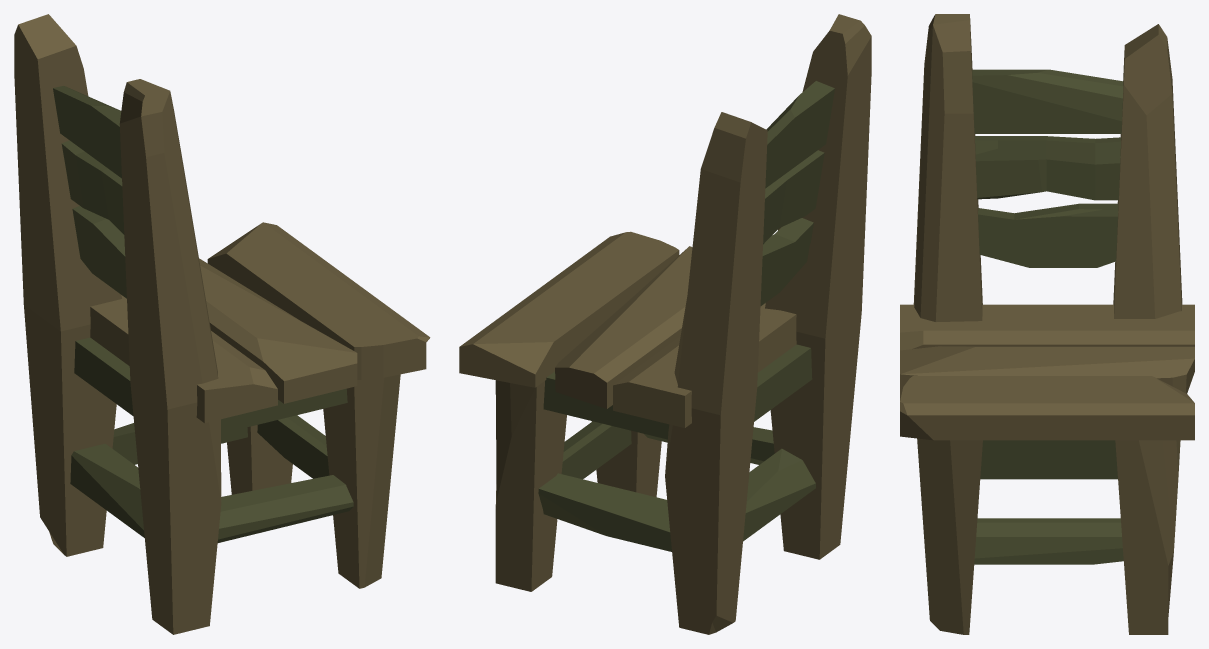
File: Chair_2_Green.fbx
The picture shows the model from 3 angles, left to right: view 1: azimuth 30°, elevation 25°; view 2: azimuth 150°, elevation 25°; view 3: azimuth 270°, elevation 25°; orthographic projection. The views are drawn at different scales.
Parts seen in each view (by area): view 1: Cube.211, Cube.210, Cube.239, Cube.213, Cube.238, Cube.237, Cube.217, Cube.216, Cube.235, Cube.234, Cube.236, Cube.212 (+4 smaller); view 2: Cube.210, Cube.211, Cube.239, Cube.212, Cube.238, Cube.218, Cube.237, Cube.235, Cube.216, Cube.234, Cube.236, Cube.213 (+4 smaller); view 3: Cube.239, Cube.211, Cube.210, Cube.237, Cube.212, Cube.213, Cube.235, Cube.238, Cube.234, Cube.236, Cube.215, Cube.216 (+1 smaller).
Part boxes in pixels (x1=…): Cube.211: x1=119, y1=79, x2=221, y2=634; Cube.210: x1=14, y1=14, x2=121, y2=556; Cube.239: x1=207, y1=222, x2=430, y2=379; Cube.213: x1=323, y1=374, x2=400, y2=588; Cube.238: x1=199, y1=258, x2=357, y2=403; Cube.237: x1=90, y1=295, x2=277, y2=423; Cube.217: x1=217, y1=475, x2=353, y2=542; Cube.216: x1=70, y1=443, x2=144, y2=537; Cube.235: x1=53, y1=86, x2=121, y2=178; Cube.234: x1=61, y1=140, x2=124, y2=234; Cube.236: x1=72, y1=206, x2=126, y2=298; Cube.212: x1=227, y1=425, x2=292, y2=494; Cube.210: x1=665, y1=112, x2=767, y2=634; Cube.211: x1=765, y1=14, x2=871, y2=559; Cube.239: x1=459, y1=231, x2=679, y2=387; Cube.212: x1=495, y1=380, x2=566, y2=591; Cube.238: x1=555, y1=246, x2=692, y2=408; Cube.218: x1=538, y1=473, x2=671, y2=551; Cube.237: x1=613, y1=303, x2=796, y2=427; Cube.235: x1=765, y1=81, x2=834, y2=188; Cube.216: x1=743, y1=448, x2=815, y2=541; Cube.234: x1=763, y1=150, x2=824, y2=244; Cube.236: x1=760, y1=218, x2=813, y2=305; Cube.213: x1=591, y1=421, x2=661, y2=497; Cube.239: x1=900, y1=376, x2=1194, y2=440; Cube.211: x1=913, y1=14, x2=982, y2=321; Cube.210: x1=1113, y1=24, x2=1182, y2=318; Cube.237: x1=900, y1=304, x2=1194, y2=350; Cube.212: x1=1115, y1=440, x2=1180, y2=634; Cube.213: x1=917, y1=438, x2=982, y2=634; Cube.235: x1=972, y1=69, x2=1123, y2=133; Cube.238: x1=900, y1=346, x2=1194, y2=400; Cube.234: x1=975, y1=136, x2=1120, y2=200; Cube.236: x1=978, y1=203, x2=1118, y2=267; Cube.215: x1=974, y1=518, x2=1123, y2=564; Cube.216: x1=980, y1=458, x2=1117, y2=479.
Bounding box in the file's own units: 235 × 438 × 231.
